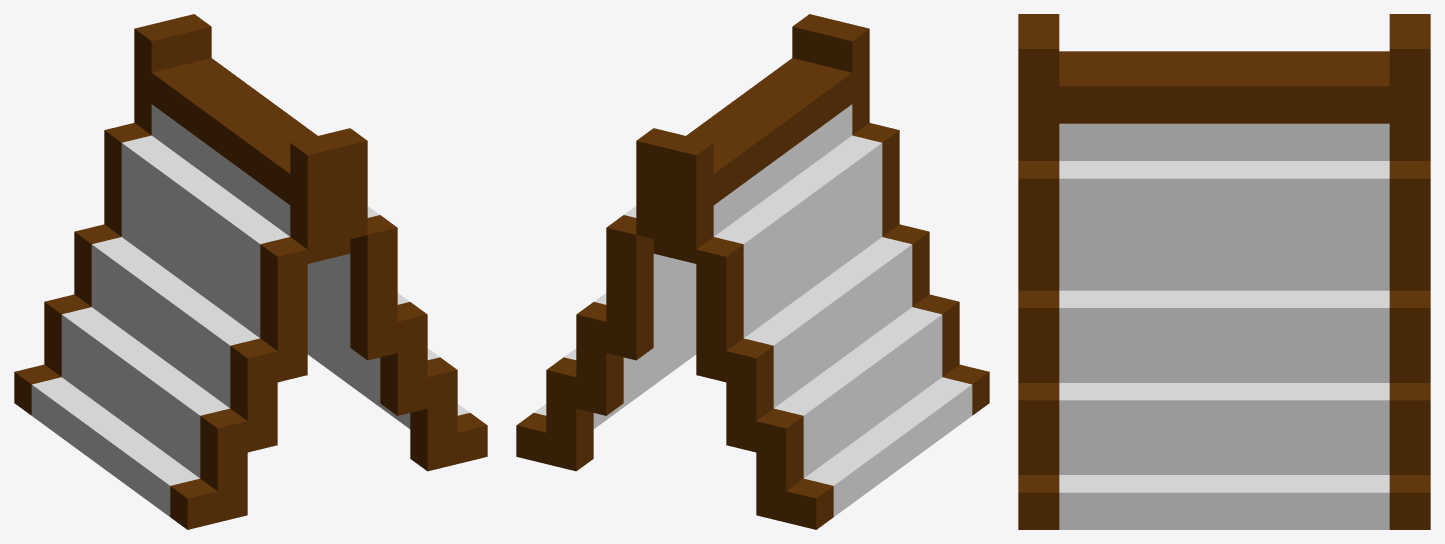
Rendered from OreBase.obj.
The picture shows the model from 3 angles, left to right: view 1: azimuth 30°, elevation 25°; view 2: azimuth 150°, elevation 25°; view 3: azimuth 270°, elevation 25°; orthographic projection. The views are drawn at different scales.
Visible parts, largest first — view 1: Untitled; view 2: Untitled; view 3: Untitled.
Boxes of the visible parts, box(x1,y1,x2,y2) form: Untitled: box(14, 14, 487, 529); Untitled: box(516, 14, 989, 529); Untitled: box(1018, 14, 1430, 529).
Bounding box in the file's own units: 1 × 1.1 × 1.
